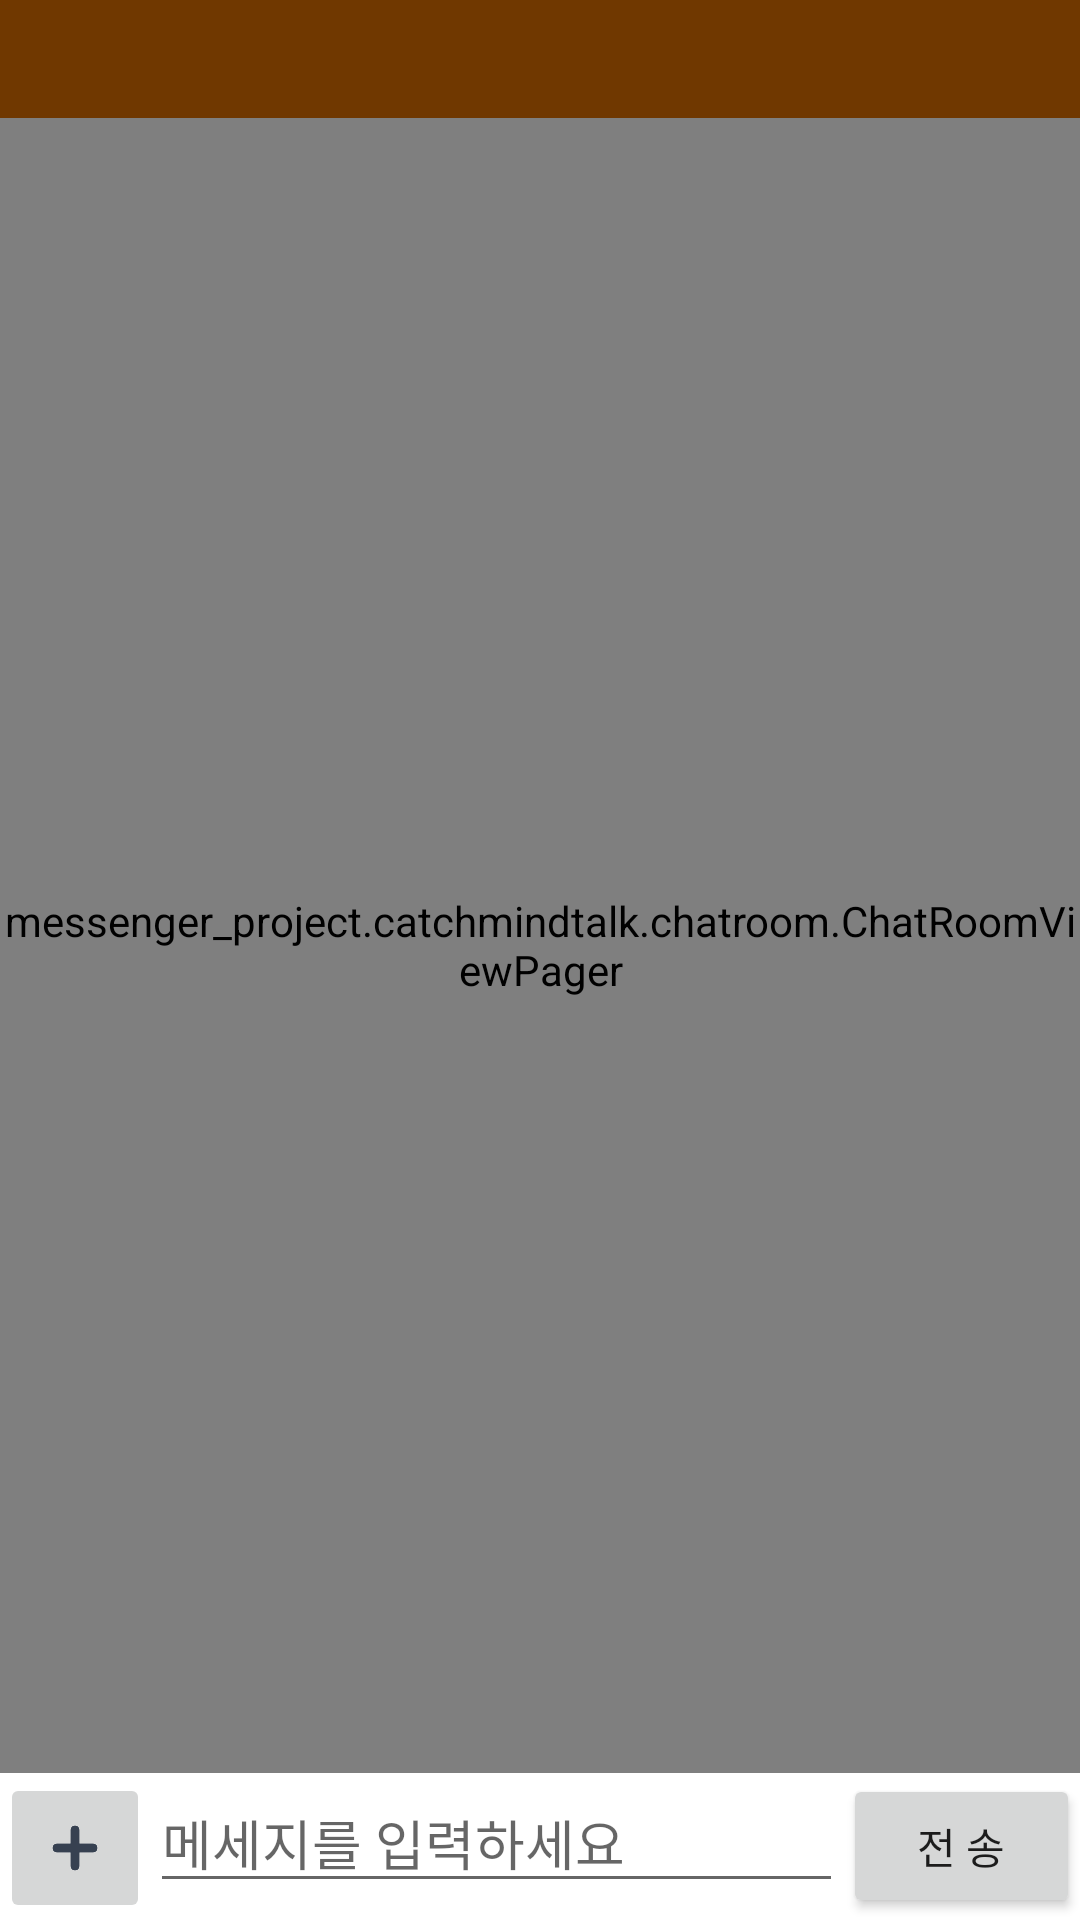

Screen size 1080px x 1920px. Icon name, then its box in pixels as (x1, y1, x2, y2):
plus: (12, 1791, 138, 1905)
